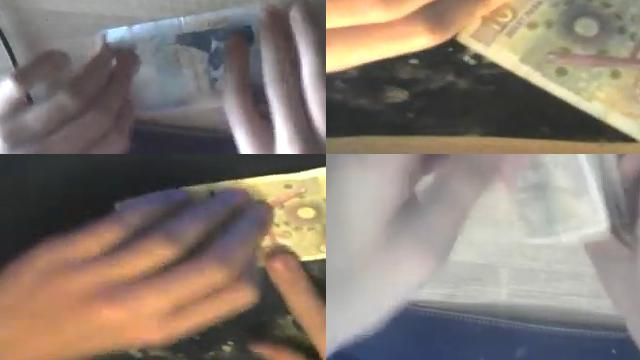10leva: (199, 166, 326, 262), (510, 154, 611, 244)
20leva: (124, 15, 237, 117)
